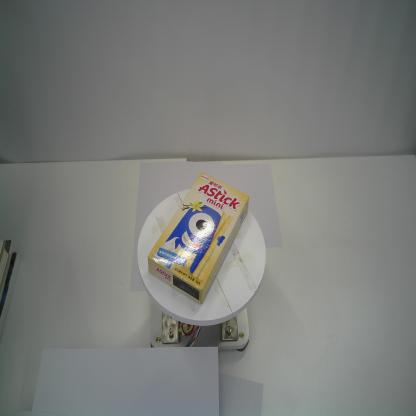Dessert: (144, 168, 250, 306)
